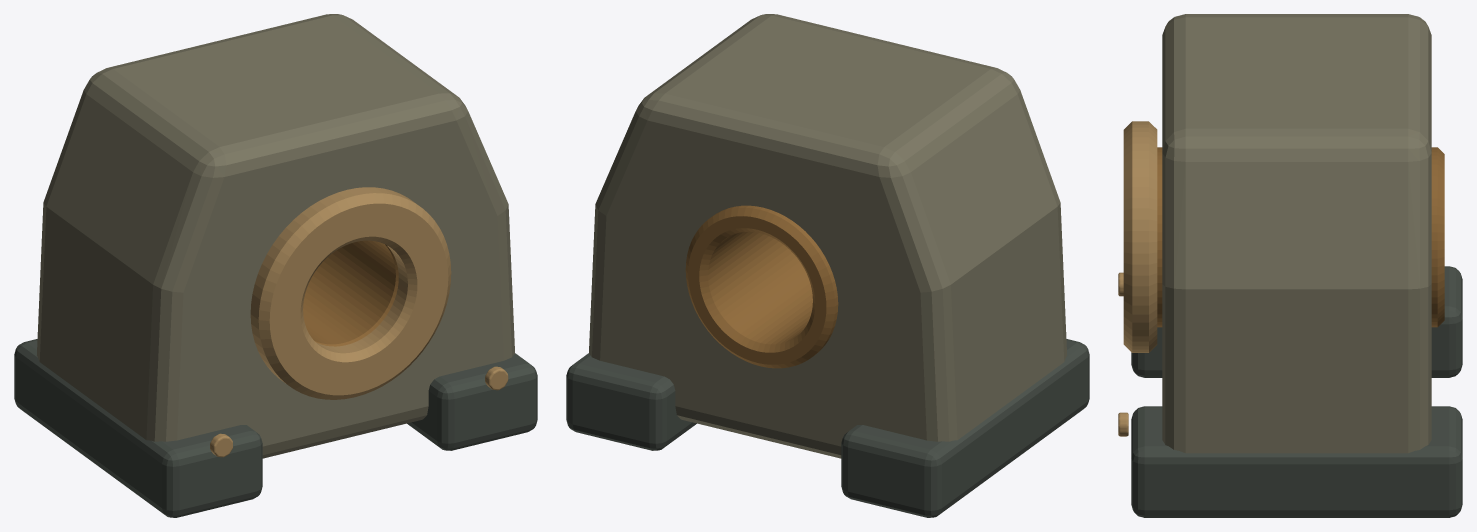
Rendered from PIN_SOCKET.hi.glb.
3 views of the same model, side by side, from view 1: azimuth 30°, elevation 25°; view 2: azimuth 150°, elevation 25°; view 3: azimuth 270°, elevation 25° (orthographic). The views are drawn at different scales.
Parts seen in each view (by area): view 1: Body_Mesh; view 2: Body_Mesh; view 3: Body_Mesh.
Boxes of the visible parts, box(x1,y1,x2,y2) form: Body_Mesh: box(14, 14, 537, 517); Body_Mesh: box(566, 14, 1089, 517); Body_Mesh: box(1118, 14, 1462, 517).
Size of the model in its own units: 0.87 by 0.755 by 0.665.
